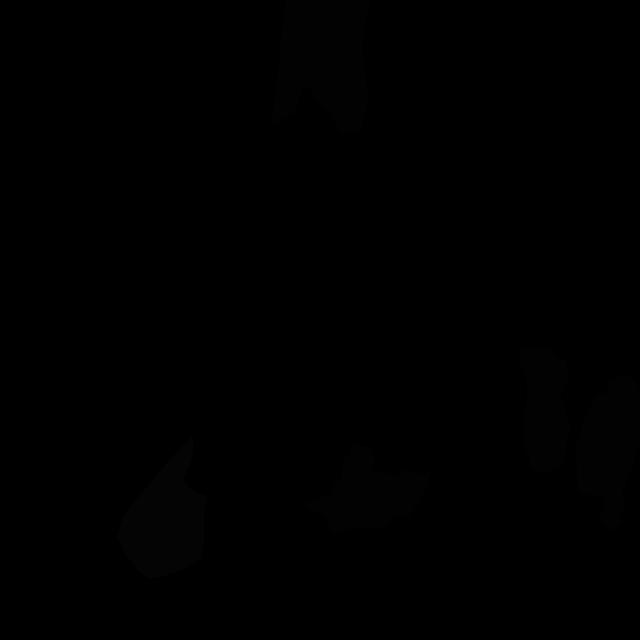cardboard: (272, 0, 370, 134), (305, 442, 432, 534), (576, 374, 640, 531), (518, 346, 571, 472)
soft_plastic: (117, 436, 208, 579)
